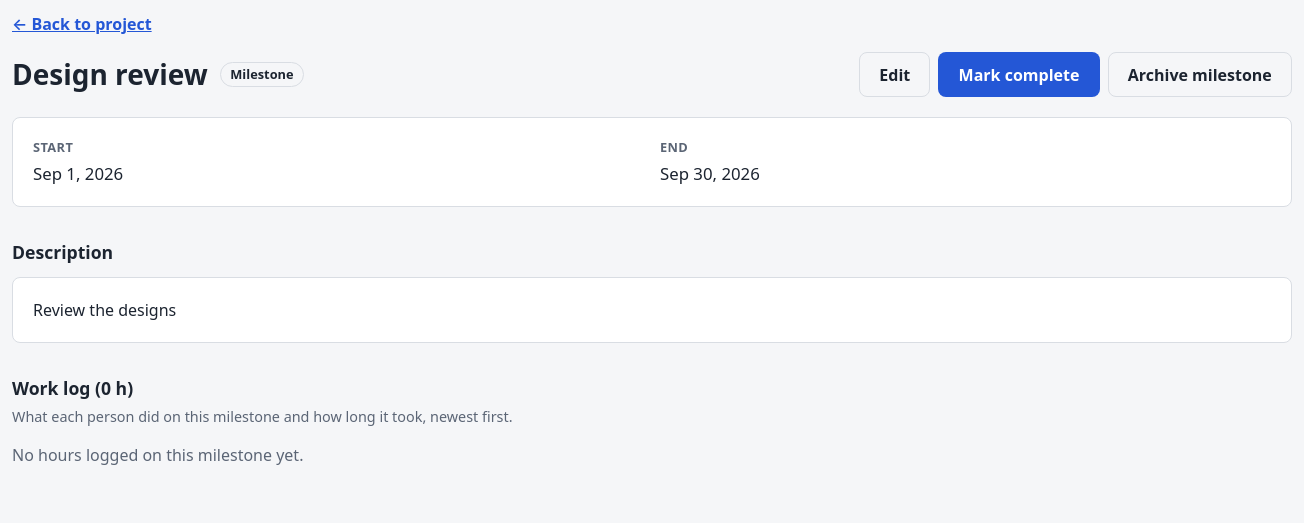
Scenario: MilestonePage actions › shows an error when completing fails
Click the button "Mark complete" at (1019, 75), box [938,52,1100,97]
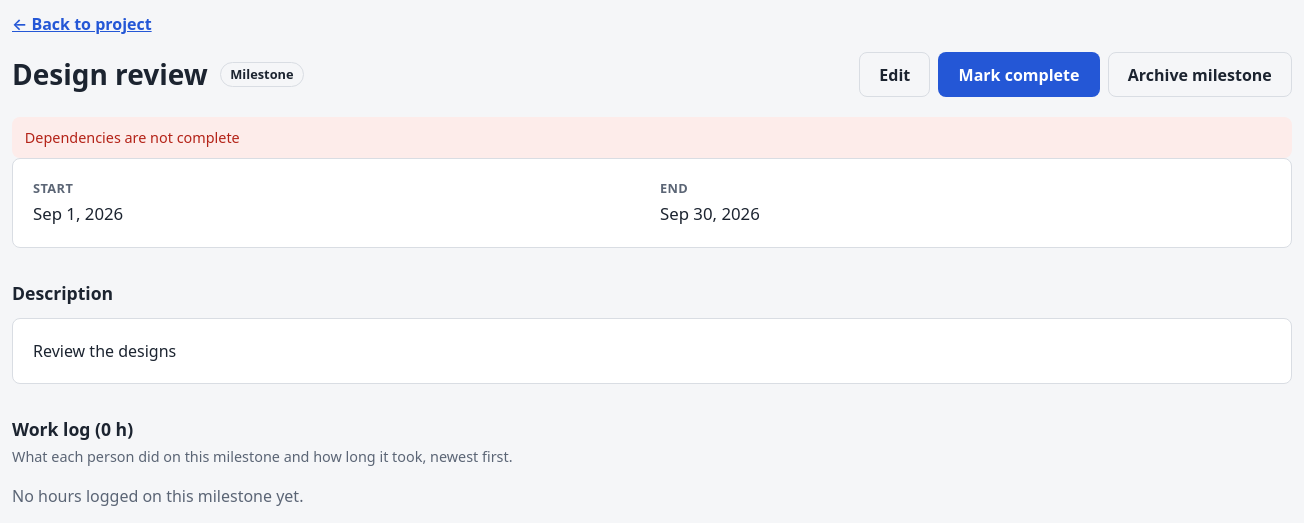
expect the message reads "Dependencies are not complete": met, box [25,128,240,147]
